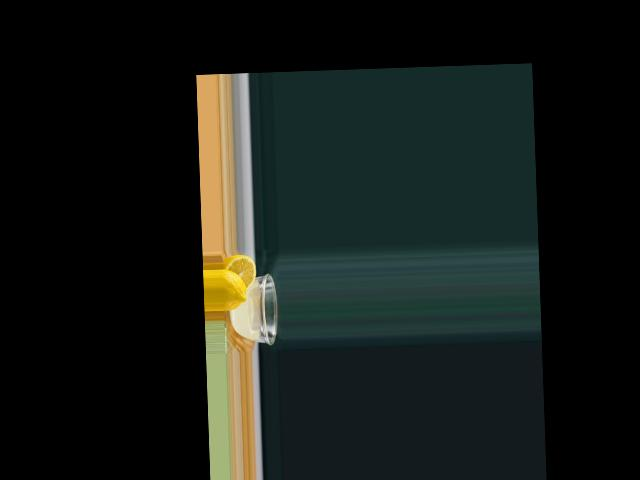lemon: (221, 256, 257, 310)
